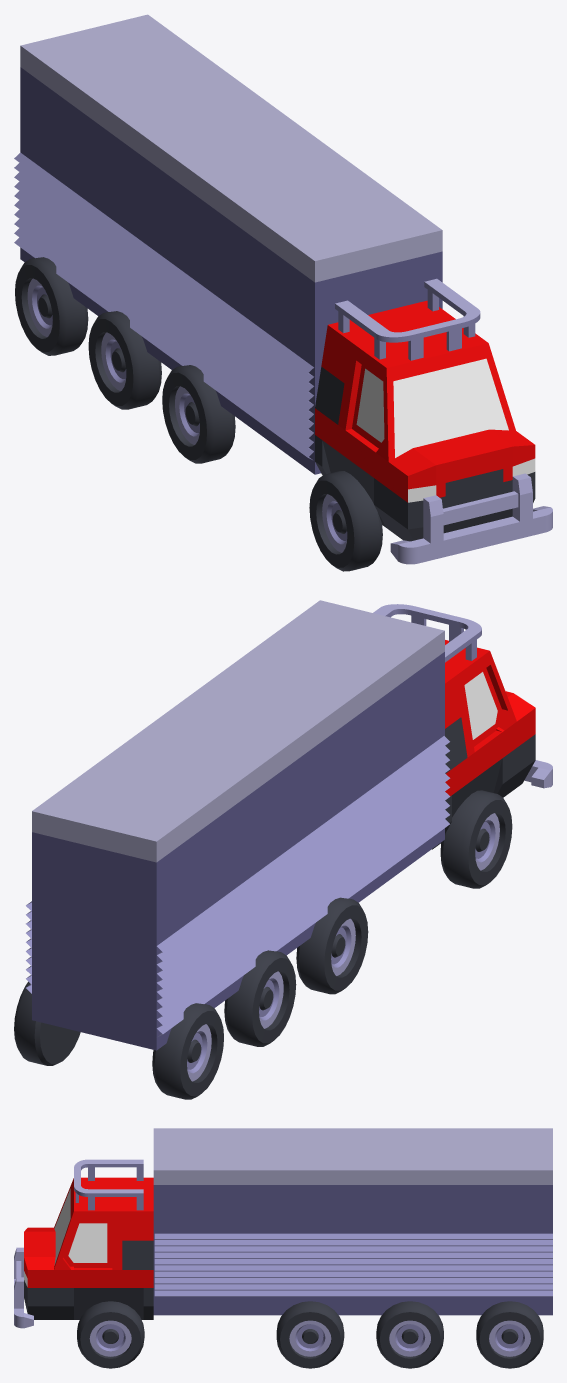
Rendered from bigcar.fbx.
The picture shows the model from 3 angles, top to bottom: view 1: azimuth 30°, elevation 25°; view 2: azimuth 150°, elevation 25°; view 3: azimuth 270°, elevation 25°; orthographic projection. The views are drawn at different scales.
Visible parts, largest first — view 1: floor (×4), sheet, wheel_standard (×4), body_topVan, body_frontSUV, bumper_large, hut_openHalf, body_edge; view 2: floor (×4), sheet, wheel_standard (×5), body_topVan, body_edge, body_frontSUV, hut_openHalf, bumper_large; view 3: floor (×4), sheet, wheel_standard (×4), body_topVan, body_edge, body_frontSUV, hut_openHalf, bumper_large.
Boxes of the visible parts, x1,y1,x2,y2 form: floor (×4): [20, 14, 442, 474]; sheet: [14, 152, 313, 459]; wheel_standard (×4): [15, 257, 382, 571]; body_topVan: [315, 300, 515, 461]; body_frontSUV: [374, 429, 535, 541]; bumper_large: [390, 473, 552, 564]; hut_openHalf: [335, 278, 480, 360]; body_edge: [315, 408, 397, 535]; floor (×4): [32, 600, 444, 1050]; sheet: [157, 736, 450, 1036]; wheel_standard (×5): [14, 790, 512, 1099]; body_topVan: [445, 640, 516, 773]; body_edge: [432, 722, 516, 849]; body_frontSUV: [494, 691, 535, 797]; hut_openHalf: [373, 604, 481, 662]; bumper_large: [524, 760, 552, 788]; floor (×4): [153, 1128, 552, 1315]; sheet: [154, 1233, 552, 1296]; wheel_standard (×4): [77, 1301, 543, 1368]; body_topVan: [54, 1177, 153, 1269]; body_edge: [54, 1268, 153, 1319]; body_frontSUV: [24, 1227, 73, 1319]; hut_openHalf: [74, 1159, 143, 1210]; bumper_large: [14, 1247, 33, 1328].
Size of the model in its own units: 13.33 by 21.08 by 54.
